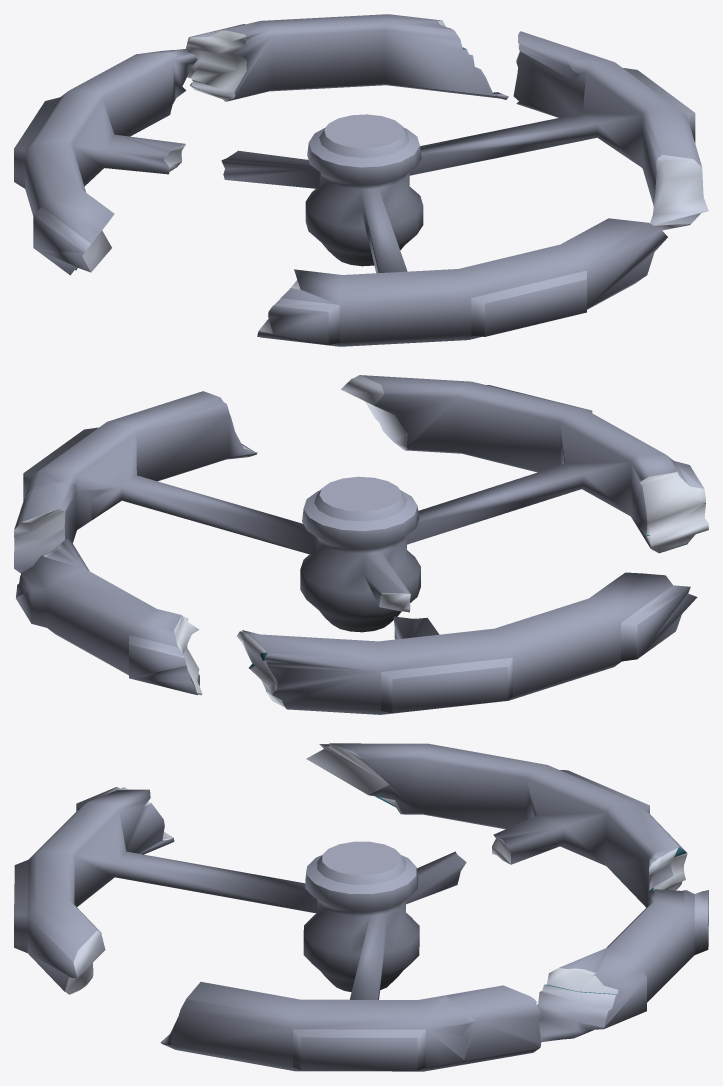
Rendered from SpacePart_Cylinder_014.fbx.
3 views of the same model, one above another, from view 1: azimuth 30°, elevation 25°; view 2: azimuth 150°, elevation 25°; view 3: azimuth 270°, elevation 25° (orthographic). The views are drawn at different scales.
Visible parts, largest first — view 1: Cylinder.014; view 2: Cylinder.014; view 3: Cylinder.014.
Boxes of the visible parts, <box> form: Cylinder.014: <box>14,14,708,346</box>; Cylinder.014: <box>14,375,708,714</box>; Cylinder.014: <box>14,743,708,1071</box>.
Bounding box in the file's own units: 25690 × 4974 × 25680.
